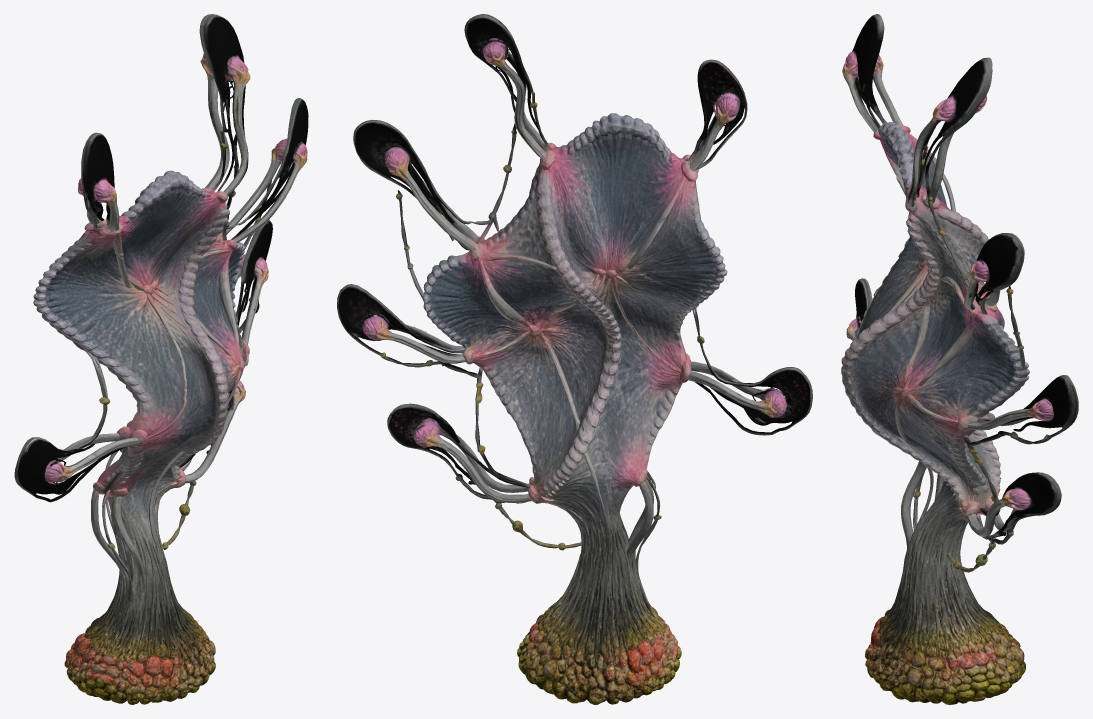
File: category-2.glb
3 views of the same model, side by side, from view 1: azimuth 30°, elevation 25°; view 2: azimuth 150°, elevation 25°; view 3: azimuth 270°, elevation 25° (orthographic). The views are drawn at different scales.
Parts seen in each view (by area): view 1: C02_Bent_Archive; view 2: C02_Bent_Archive; view 3: C02_Bent_Archive.
Part boxes in pixels (bbox=[...]): C02_Bent_Archive: bbox=[14, 14, 308, 704]; C02_Bent_Archive: bbox=[337, 14, 812, 704]; C02_Bent_Archive: bbox=[841, 14, 1078, 704].
Size of the model in its own units: 0.6993 by 1.15 by 0.3713.
1 material, 1 textured.
